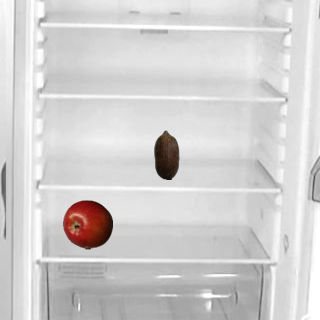Apple Braeburn: (62, 199, 112, 249)
Nut Pecan: (141, 129, 191, 179)
